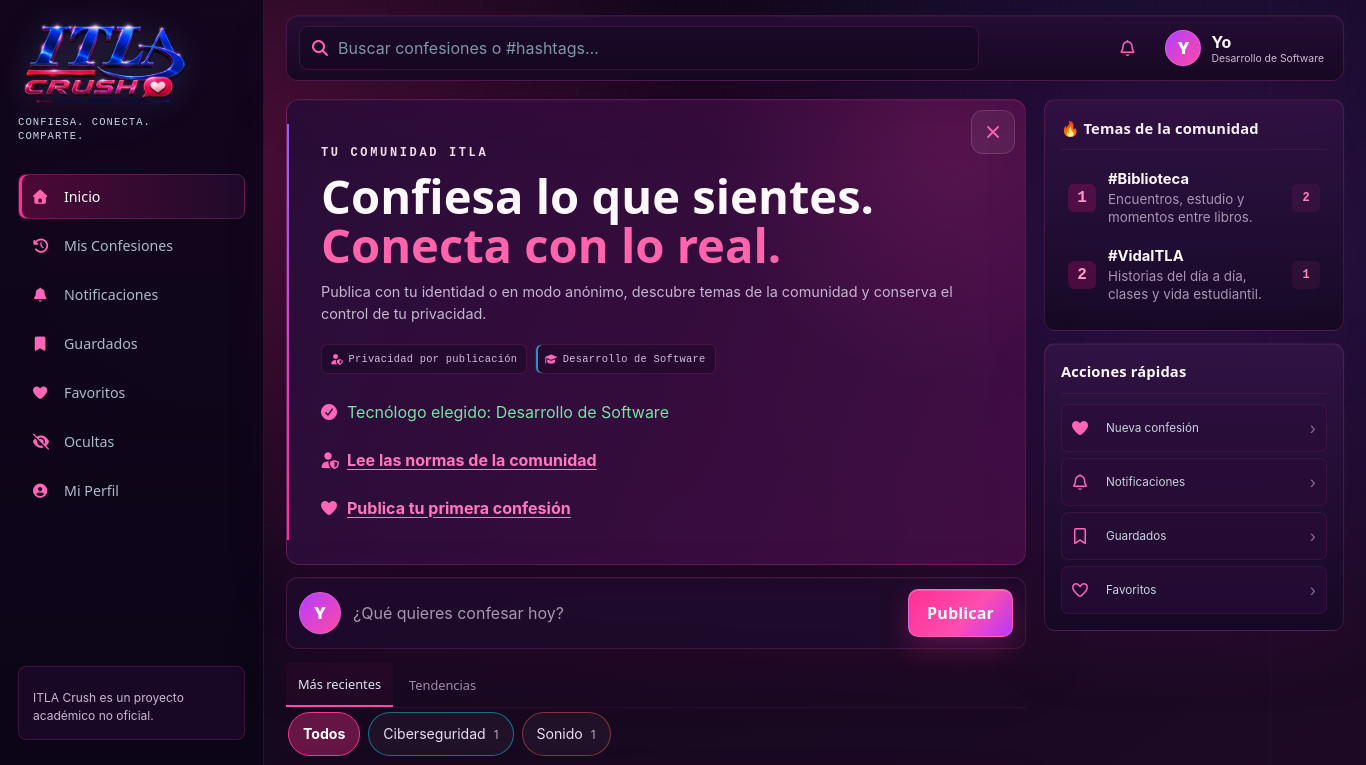
Test case: fase 3: filtros, tendencias y primeros pasos › filtra por tecnólogo y se puede quitar el filtro
Click the button "Sonido 1". click: (566, 734)
box: [522,712,610,756]
(page scrolled)
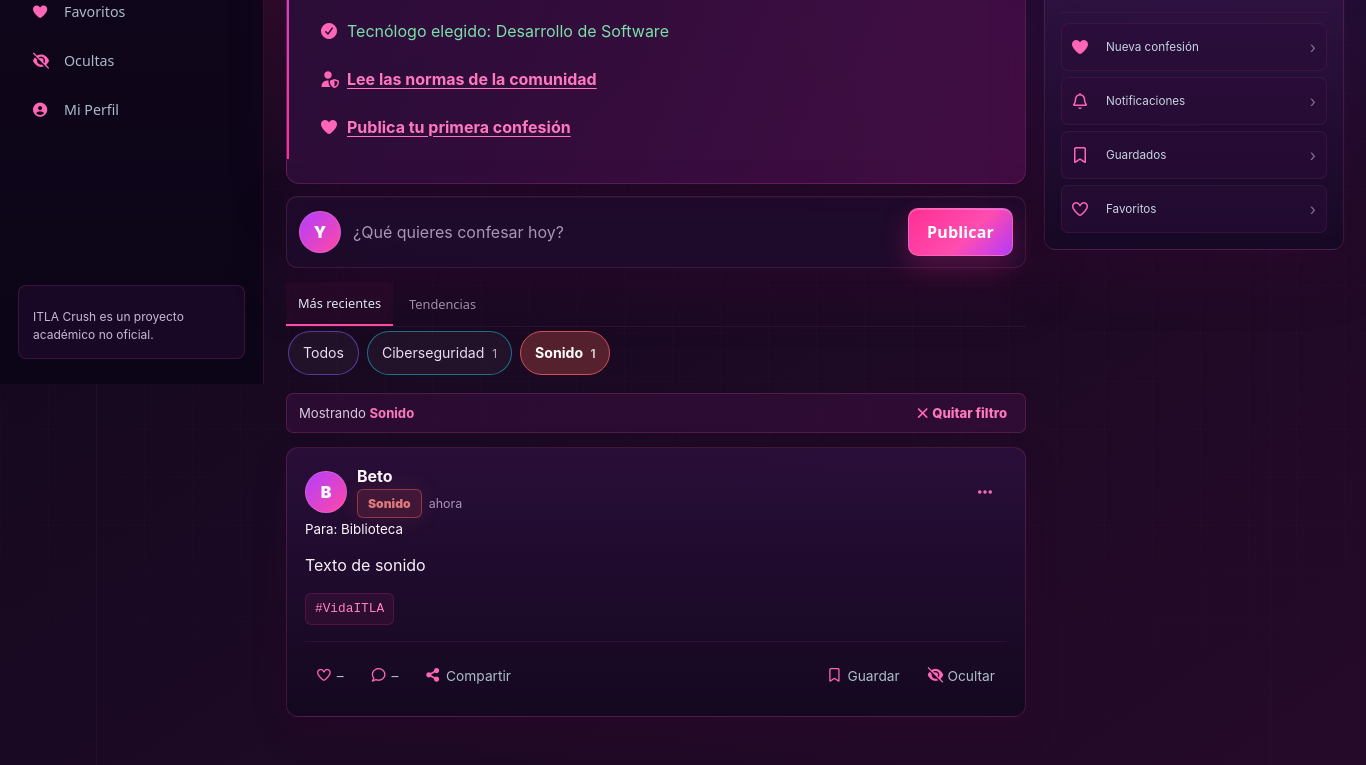
Expected: the text "Texto de sonido" is shown, [305,555,426,575]
Click the button with aria-label "Quitar filtros". click: (962, 413)
box: [910,404,1013,422]
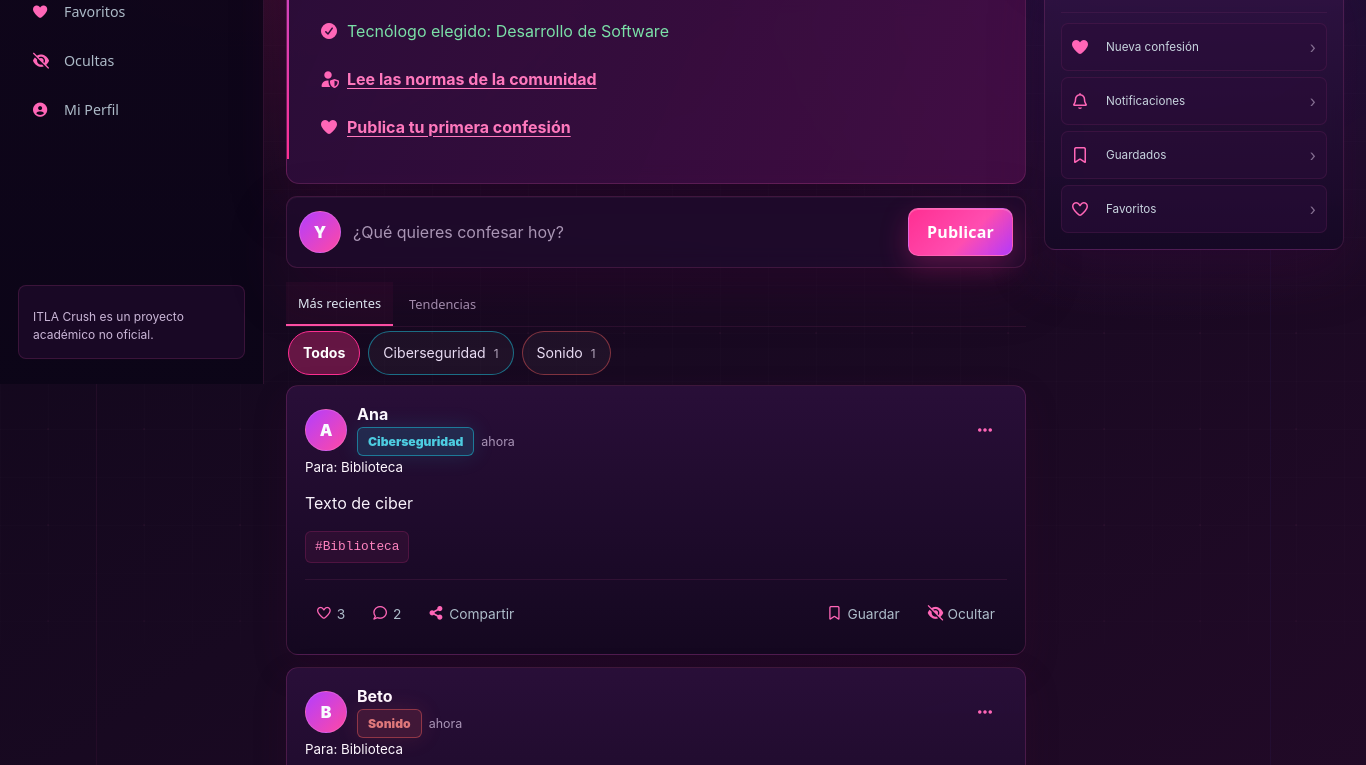
Expected: the text "Texto de ciber" is shown, [305,493,413,513]
